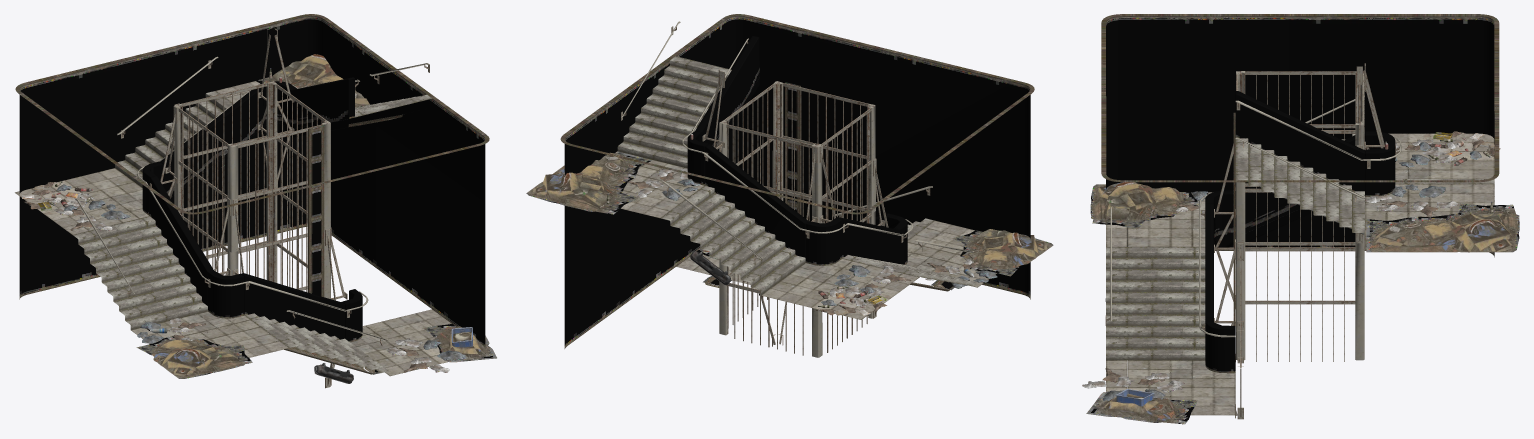
File: link-stairwell-a-600.glb
The picture shows the model from 3 angles, left to right: view 1: azimuth 30°, elevation 25°; view 2: azimuth 150°, elevation 25°; view 3: azimuth 270°, elevation 25°; orthographic projection. The views are drawn at different scales.
Visible parts, largest first — view 1: stairwell_600_LOD0, junk_pile_Lshape_a, junk_pile_Lshape_c, junk_pile_a, ground_cloth_a (3), ground_junk_a, ground_cloth_a, ground_cloth_a (1), FluorescentLight_LOD0; view 2: stairwell_600_LOD0, junk_pile_Lshape_c, junk_pile_Lshape_a, ground_junk_a, ground_cloth_a, ground_cloth_a (2), ground_cloth_a (1), FluorescentLight_LOD0; view 3: stairwell_600_LOD0, junk_pile_Lshape_c, junk_pile_Lshape_a, junk_pile_a, ground_junk_a, ground_cloth_a (2), ground_cloth_a (3), ground_cloth_a, plastic_tray.
Boxes of the visible parts, <box> form: stairwell_600_LOD0: <box>15,14,489,388</box>; junk_pile_Lshape_a: <box>136,336,252,378</box>; junk_pile_Lshape_c: <box>255,54,369,108</box>; junk_pile_a: <box>423,324,496,362</box>; ground_cloth_a (3): <box>386,338,467,372</box>; ground_junk_a: <box>21,181,93,211</box>; ground_cloth_a: <box>54,199,130,230</box>; ground_cloth_a (1): <box>137,318,205,344</box>; FluorescentLight_LOD0: <box>314,363,353,383</box>; stairwell_600_LOD0: <box>560,14,1034,357</box>; junk_pile_Lshape_c: <box>526,151,652,214</box>; junk_pile_Lshape_a: <box>952,229,1053,276</box>; ground_junk_a: <box>816,286,886,315</box>; ground_cloth_a: <box>834,265,911,297</box>; ground_cloth_a (2): <box>627,168,700,200</box>; ground_cloth_a (1): <box>925,259,997,288</box>; FluorescentLight_LOD0: <box>690,251,730,285</box>; stairwell_600_LOD0: <box>1101,14,1499,419</box>; junk_pile_Lshape_c: <box>1366,203,1519,252</box>; junk_pile_Lshape_a: <box>1090,182,1198,229</box>; junk_pile_a: <box>1086,391,1197,424</box>; ground_junk_a: <box>1419,131,1500,165</box>; ground_cloth_a (2): <box>1365,184,1458,217</box>; ground_cloth_a (3): <box>1082,368,1184,401</box>; ground_cloth_a: <box>1395,139,1445,167</box>; plastic_tray: <box>1116,389,1153,406</box>.
Bounding box in the file's own units: 10.17 × 9 × 10.13.
Materials: 8 (8 with a texture image).
